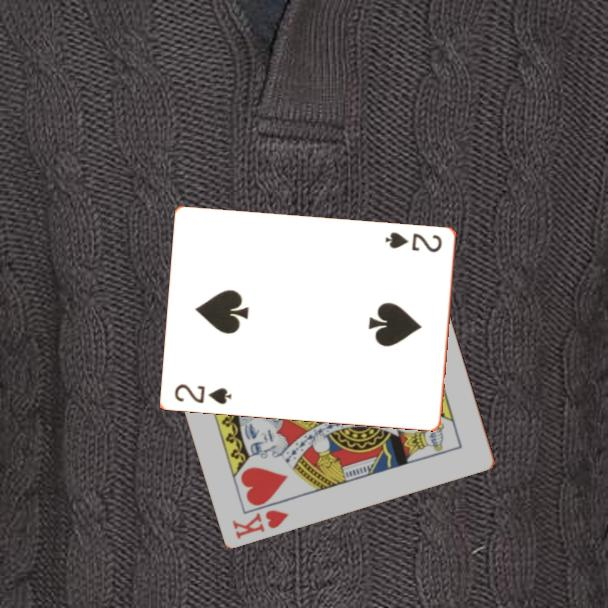h13: (229, 506, 292, 542)
s02: (171, 380, 235, 407), (382, 228, 445, 255)
